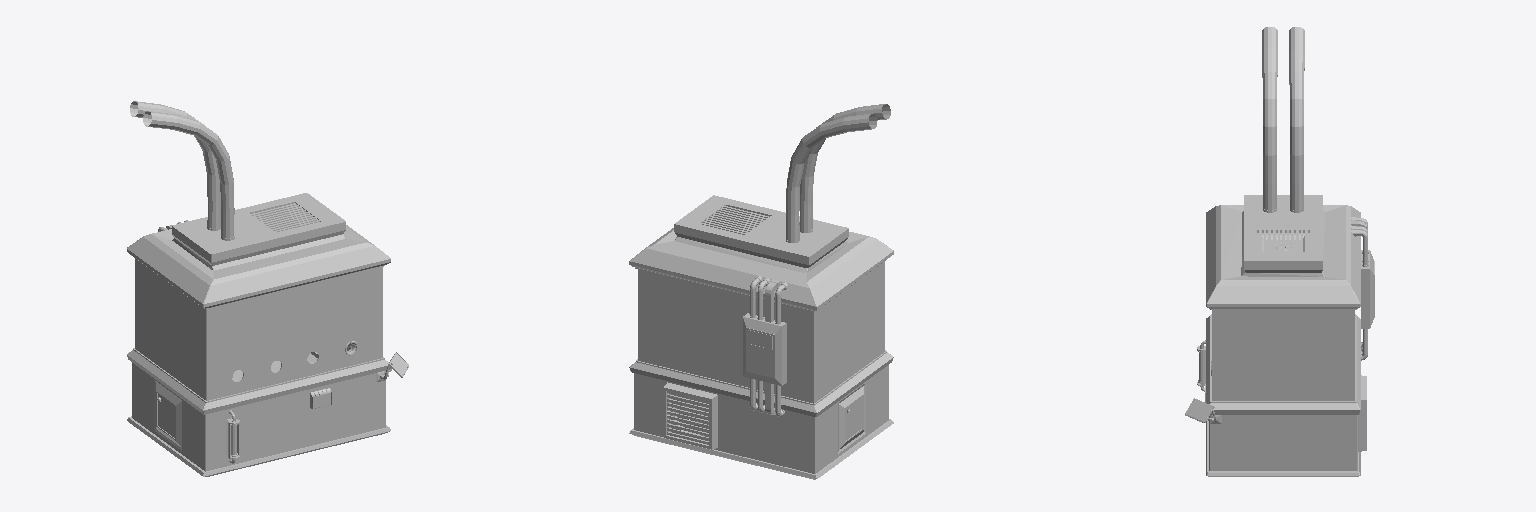
The model's file is Plantbox_large_low.obj.
3 views of the same model, side by side, from view 1: azimuth 30°, elevation 25°; view 2: azimuth 150°, elevation 25°; view 3: azimuth 270°, elevation 25° (orthographic).
Visible parts, largest first — view 1: Plantbox_large_combined_low; view 2: Plantbox_large_combined_low; view 3: Plantbox_large_combined_low.
Part boxes in pixels (x1,y1,x2,y2): Plantbox_large_combined_low: (127,101,408,476); Plantbox_large_combined_low: (629,104,893,479); Plantbox_large_combined_low: (1185,27,1374,476).
Size of the model in its own units: 294 by 426 by 210.